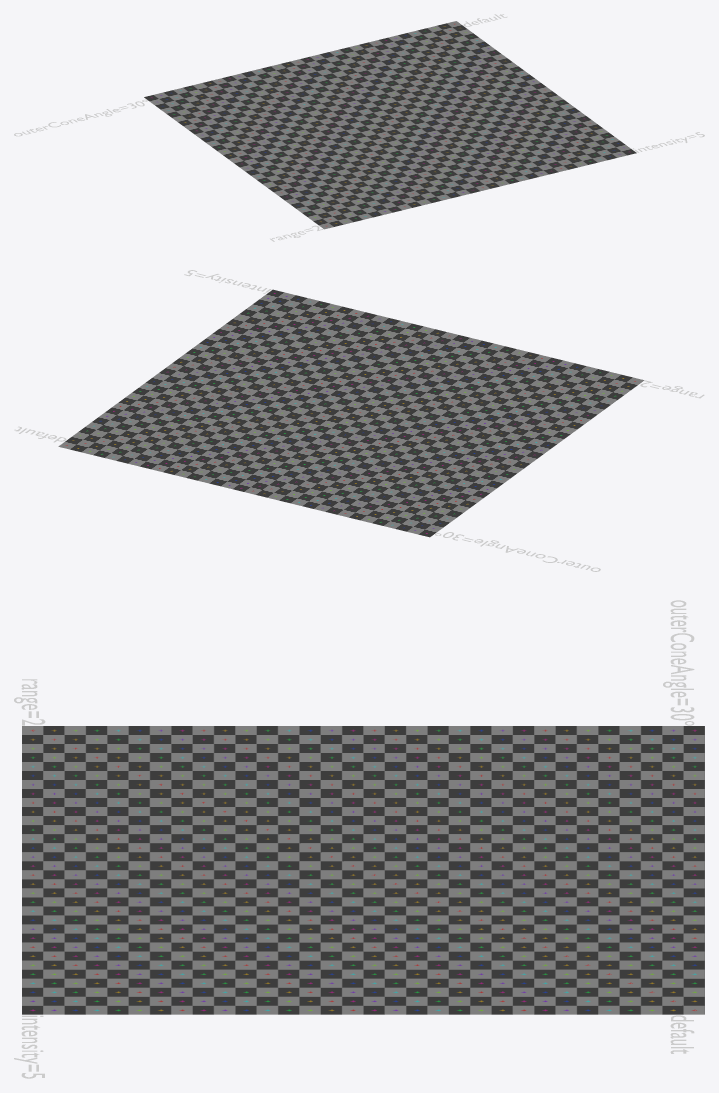
File: SpotLightTest.gltf
3 renders of one model, top to bottom at view 1: azimuth 30°, elevation 25°; view 2: azimuth 150°, elevation 25°; view 3: azimuth 270°, elevation 25°, orthographic. The views are drawn at different scales.
Parts seen in each view (by area): view 1: Plane, Text.006; view 2: Plane, Text.006; view 3: Plane, Text.006.
Boxes of the visible parts, <box> form: Plane: <box>144,21,636,229</box>; Text.006: <box>14,99,147,136</box>; Plane: <box>58,289,644,537</box>; Text.006: <box>435,532,600,571</box>; Plane: <box>22,726,704,1014</box>; Text.006: <box>663,600,694,725</box>.
Size of the model in its own units: 33.13 by 0 by 20.23.
Materials: 2 (1 with a texture image).
